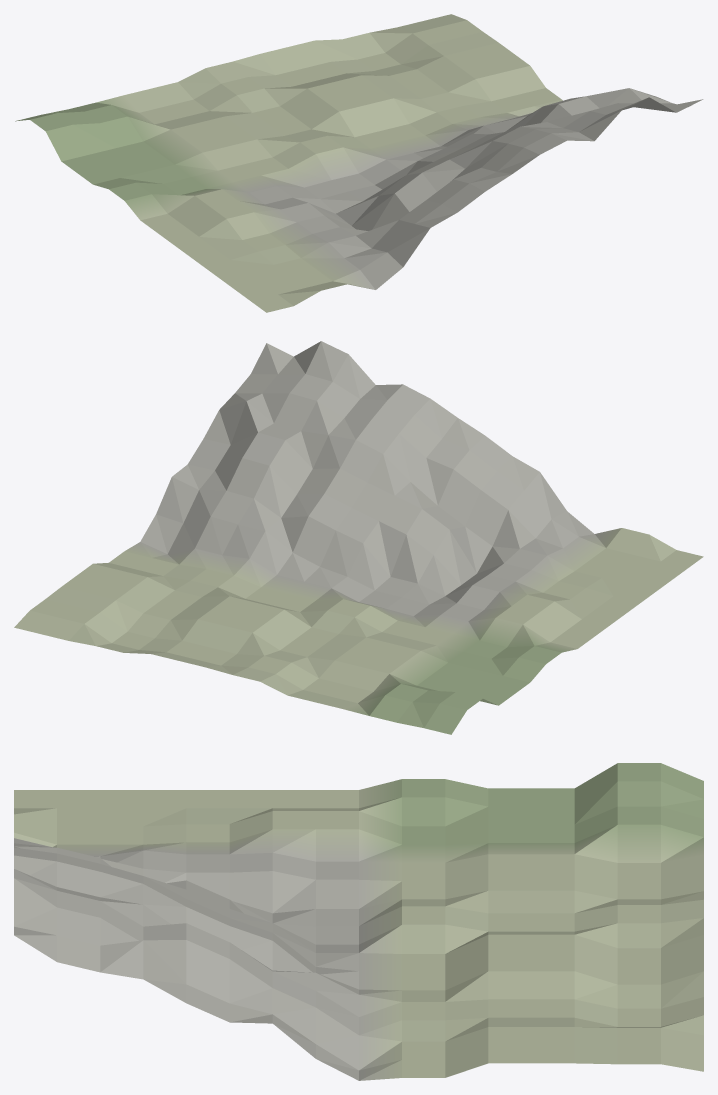
The picture shows the model from 3 angles, top to bottom: view 1: azimuth 30°, elevation 25°; view 2: azimuth 150°, elevation 25°; view 3: azimuth 270°, elevation 25°; orthographic projection. The views are drawn at different scales.
Bounding box in the file's own units: 32 × 9.31 × 32.
